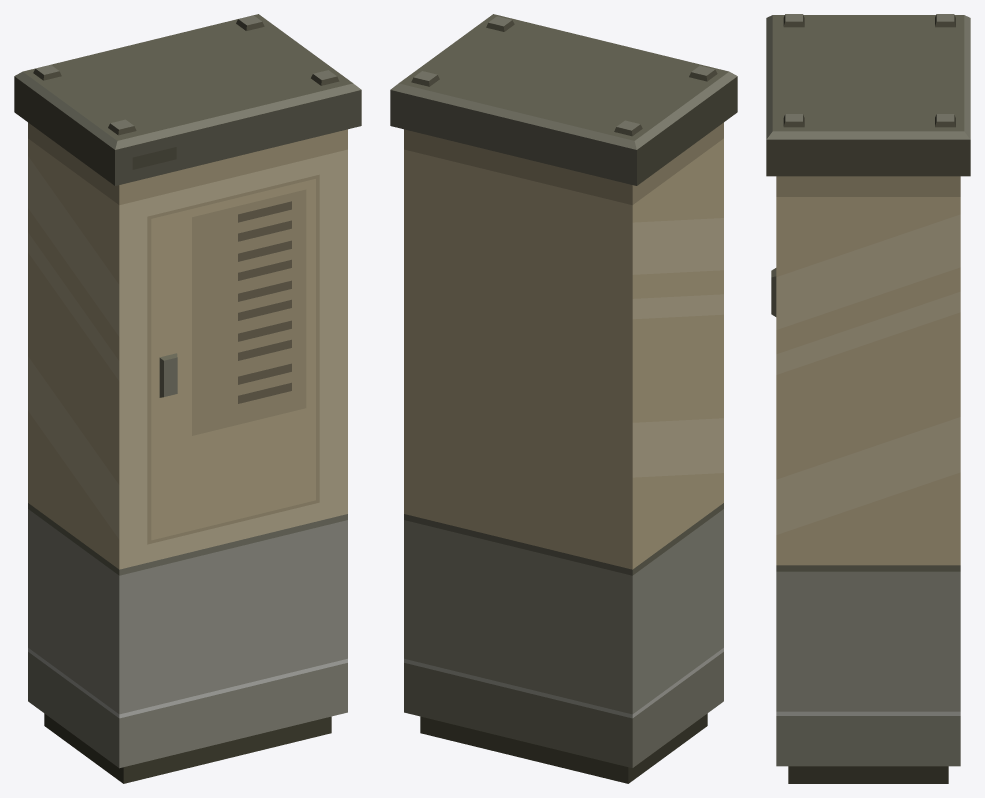
File: CRM_Reactor_UtilityCabinet_02.fbx
The picture shows the model from 3 angles, left to right: view 1: azimuth 30°, elevation 25°; view 2: azimuth 150°, elevation 25°; view 3: azimuth 270°, elevation 25°; orthographic projection.
Parts seen in each view (by area): view 1: CRM_Reactor_UtilityCabinet_02; view 2: CRM_Reactor_UtilityCabinet_02; view 3: CRM_Reactor_UtilityCabinet_02.
Part boxes in pixels (x1,y1,x2,y2): CRM_Reactor_UtilityCabinet_02: [14, 14, 361, 783]; CRM_Reactor_UtilityCabinet_02: [390, 14, 737, 783]; CRM_Reactor_UtilityCabinet_02: [766, 14, 970, 783].
Size of the model in its own units: 0.8911 by 2.27 by 0.6316.
